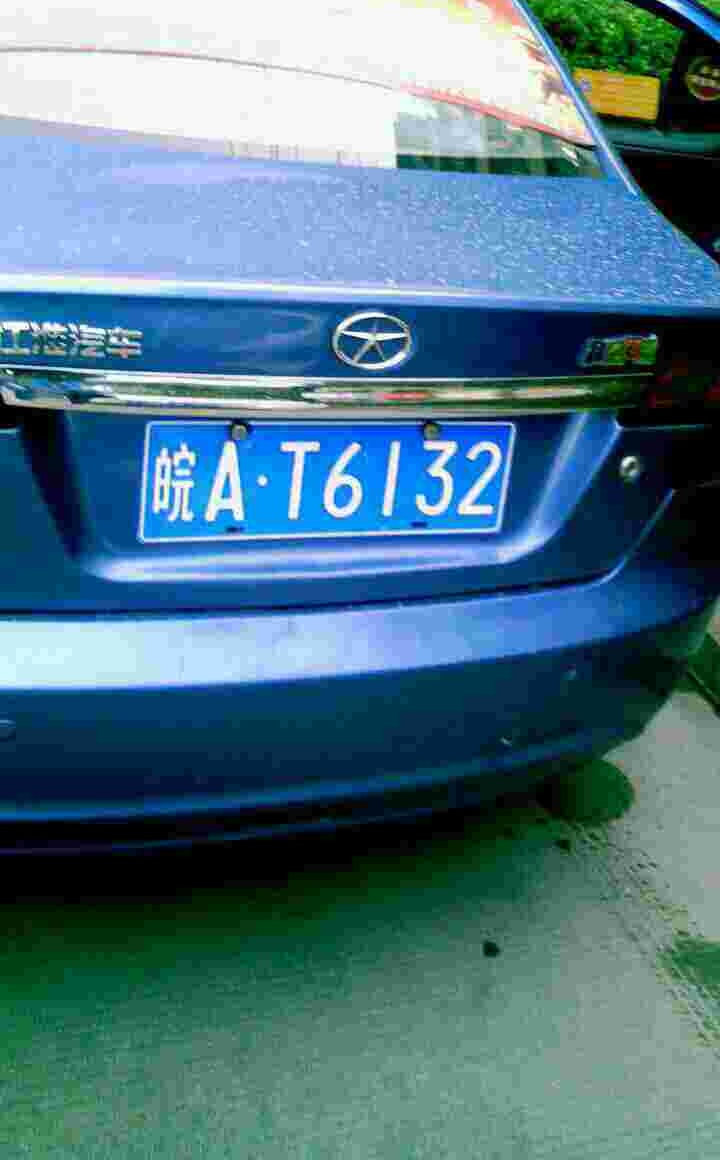license_plate: (134, 420, 511, 543)
